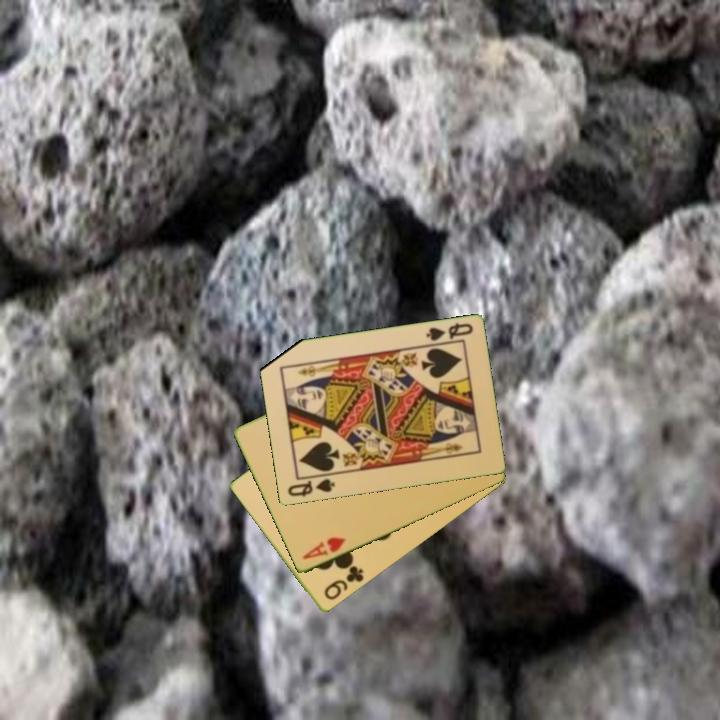9c: (320, 562, 367, 603)
Ah: (299, 534, 348, 563)
Qs: (423, 319, 476, 348), (284, 475, 338, 500)
